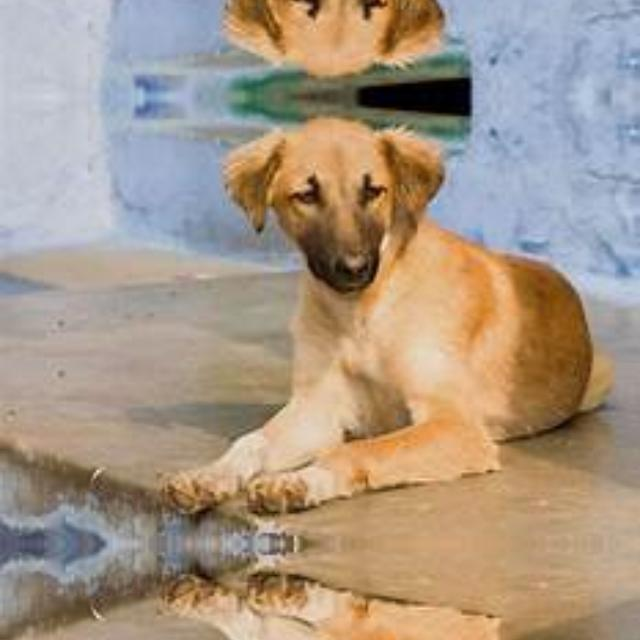dog: (157, 105, 598, 525), (156, 0, 597, 87), (156, 563, 597, 640)
